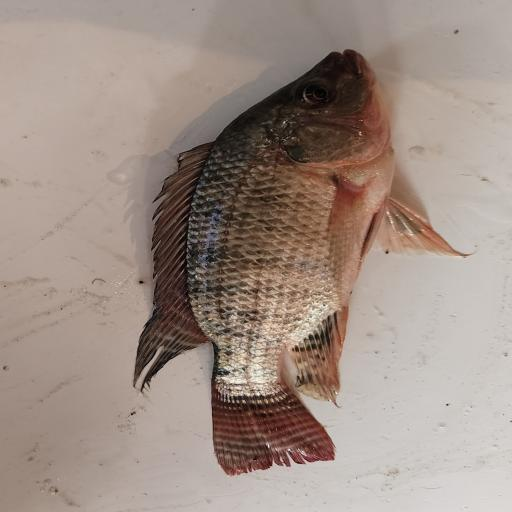Tilapia: (133, 49, 475, 477)
